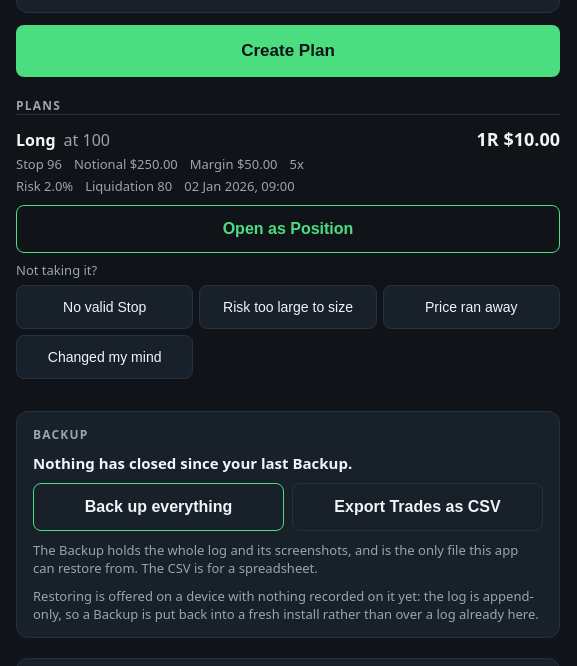
Test: abandoning a Plan › records the skip against the Plan in one tap, and says what it was for
The width and height of the screenshot is (577, 666).
(page scrolled)
Click the button "Price ran away": (471, 307) [383, 285, 560, 329]
(page scrolled)
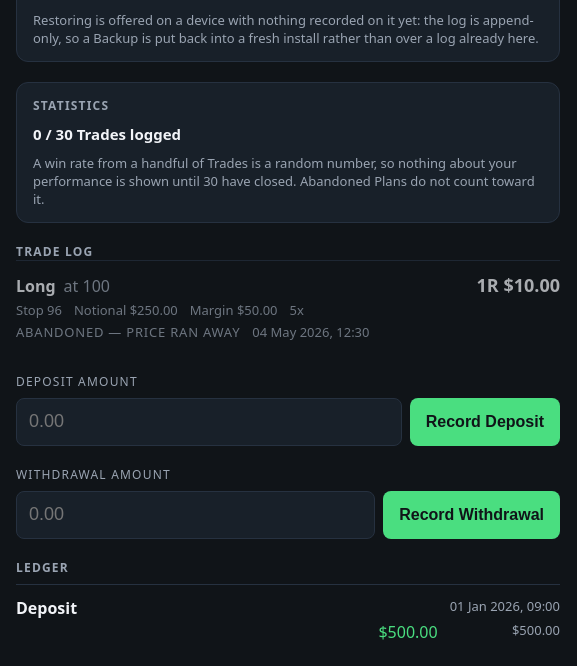
Now the list item with aria-label "plan" shows "Abandoned", box [16, 323, 126, 341]
Now the list item with aria-label "plan" shows "price ran away", box [126, 323, 240, 341]
Now the button "Open as Position" is gone
